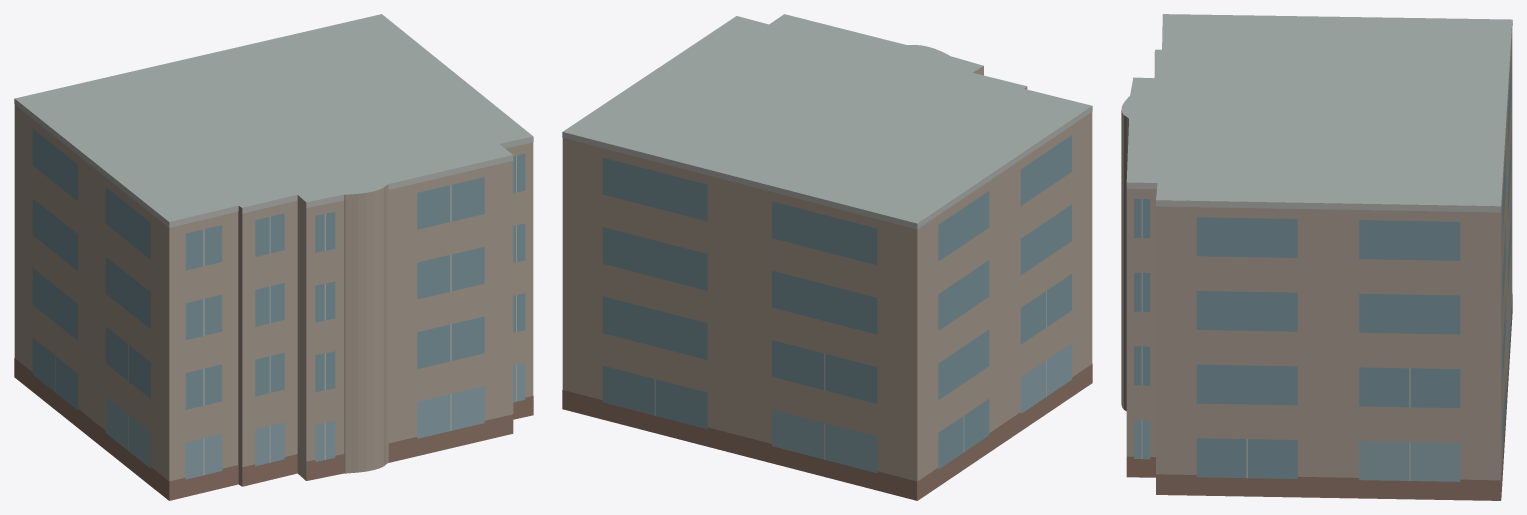
File: survey-upis-32942709.glb
3 views of the same model, side by side, from view 1: azimuth 30°, elevation 25°; view 2: azimuth 150°, elevation 25°; view 3: azimuth 270°, elevation 25° (orthographic). The views are drawn at different scales.
Parts seen in each view (by area): view 1: survey-upis-32942709.tmp; view 2: survey-upis-32942709.tmp; view 3: survey-upis-32942709.tmp.
Part boxes in pixels (x1,y1,x2,y2): survey-upis-32942709.tmp: (14,14,533,500); survey-upis-32942709.tmp: (562,14,1092,500); survey-upis-32942709.tmp: (1121,14,1512,500).
Bounding box in the file's own units: 16.24 × 11.6 × 13.95.
